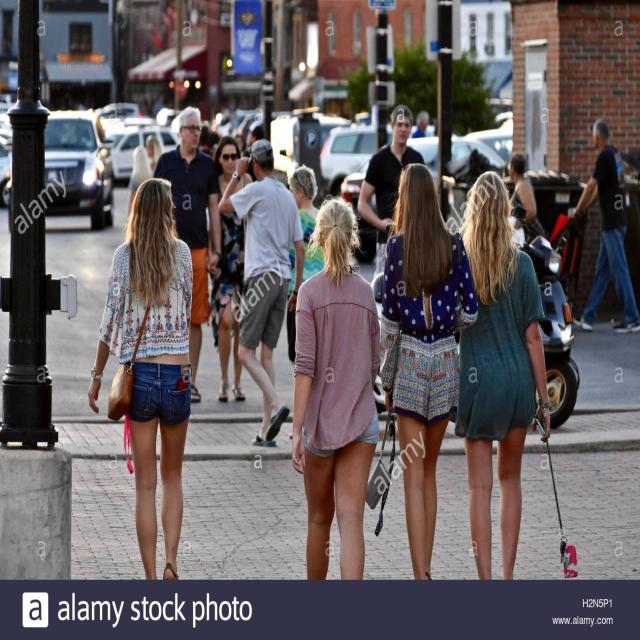body: (368, 162, 480, 580), (88, 177, 195, 580), (457, 170, 552, 580), (290, 197, 383, 582), (218, 138, 306, 448), (152, 103, 223, 404), (50, 111, 289, 186), (566, 119, 640, 336), (204, 134, 254, 404), (356, 104, 426, 284), (285, 164, 328, 442), (508, 152, 540, 236), (128, 144, 154, 218), (144, 133, 166, 180), (410, 109, 431, 139)
